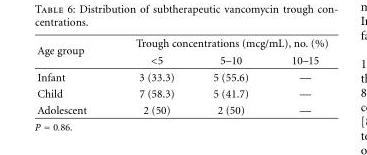table: (36, 36, 327, 115)
table column: (110, 36, 193, 115), (193, 36, 269, 115), (36, 36, 110, 115), (269, 36, 327, 115)
table column header: (36, 36, 327, 68)
table row: (36, 51, 327, 68), (36, 68, 327, 85), (36, 85, 327, 101), (36, 36, 327, 51), (36, 101, 327, 115)
table spanning cell: (110, 36, 327, 51), (36, 36, 110, 68)
